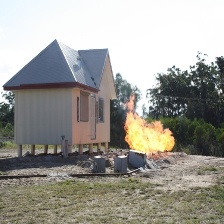fire: (124, 101, 176, 155)
